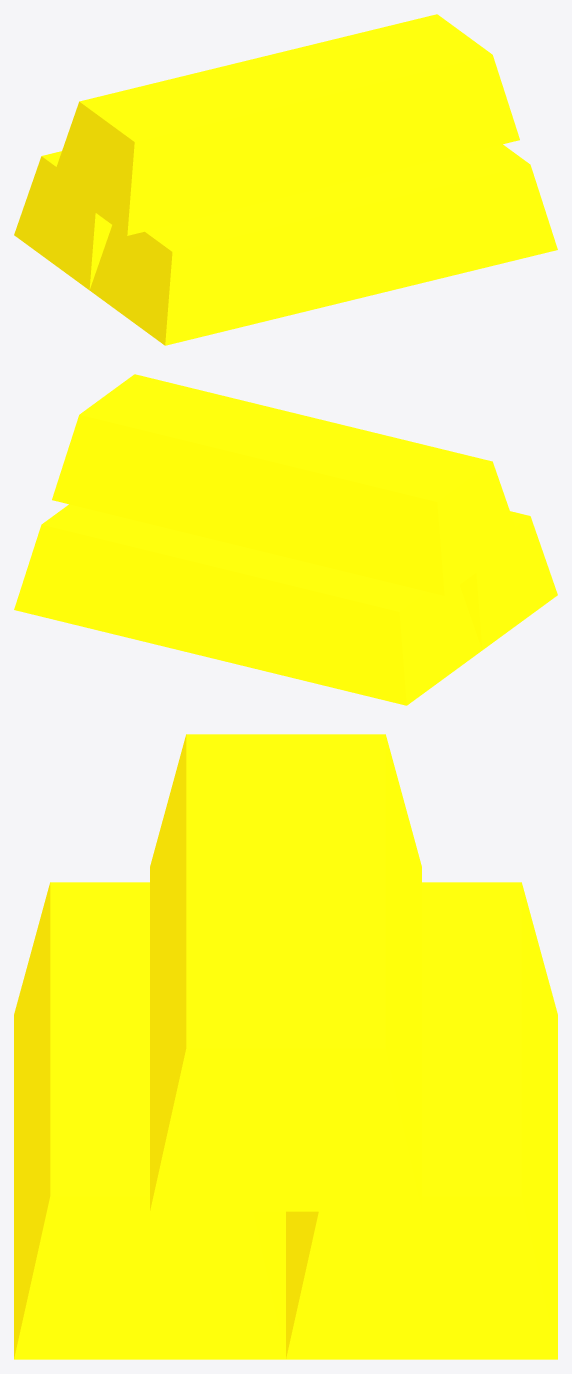
The model's file is ingot x3.fbx.
3 renders of one model, top to bottom at view 1: azimuth 30°, elevation 25°; view 2: azimuth 150°, elevation 25°; view 3: azimuth 270°, elevation 25°, orthographic. The views are drawn at different scales.
Parts seen in each view (by area): view 1: ingot x3; view 2: ingot x3; view 3: ingot x3.
Part boxes in pixels (x1,y1,x2,y2): ingot x3: [14, 14, 557, 345]; ingot x3: [14, 374, 557, 705]; ingot x3: [14, 734, 557, 1359].
Bounding box in the file's own units: 30 × 12 × 20.
